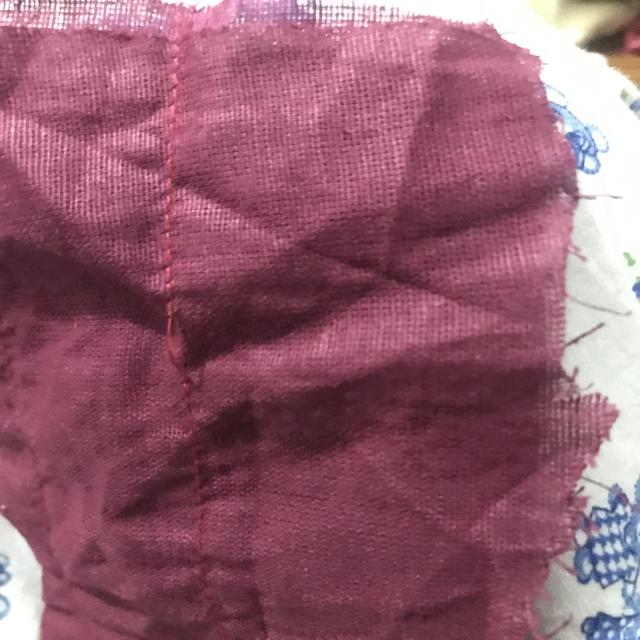skip: (134, 288, 212, 400)
